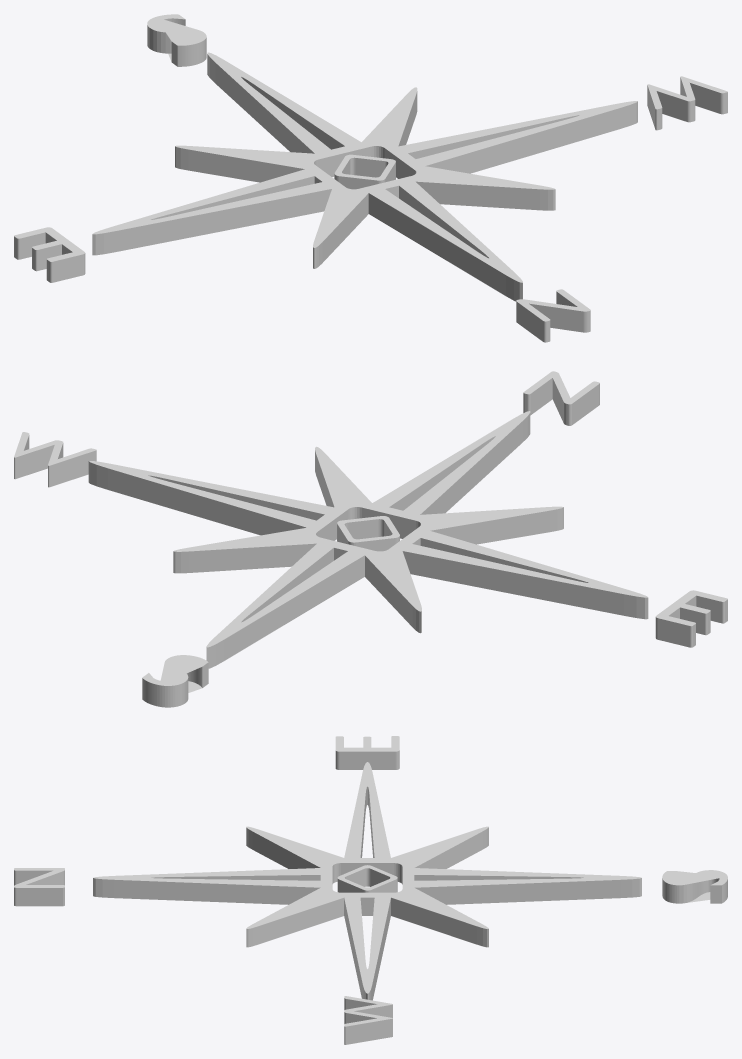
Rendered from Compass_3D.fbx.
The picture shows the model from 3 angles, top to bottom: view 1: azimuth 30°, elevation 25°; view 2: azimuth 150°, elevation 25°; view 3: azimuth 270°, elevation 25°; orthographic projection. The views are drawn at different scales.
Parts seen in each view (by area): view 1: Compass_3D; view 2: Compass_3D; view 3: Compass_3D.
Boxes of the visible parts, bbox=[...] form: Compass_3D: bbox=[14, 14, 727, 342]; Compass_3D: bbox=[14, 371, 727, 707]; Compass_3D: bbox=[14, 736, 727, 1044].
Size of the model in its own units: 340 by 10 by 353.
